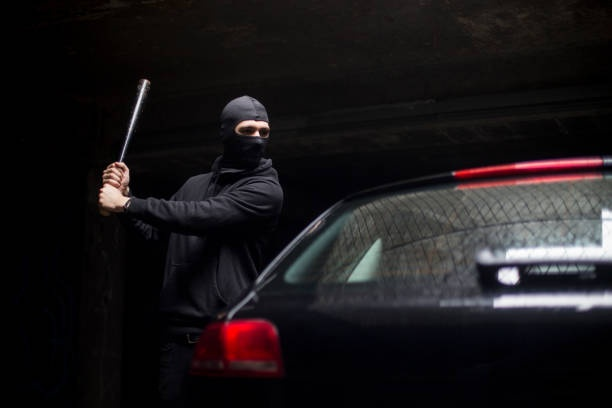bita: (108, 76, 155, 174)
